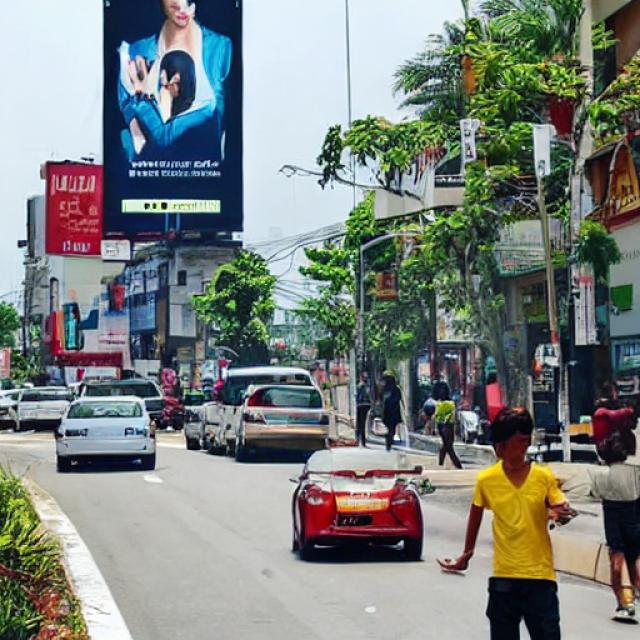Billboard: (100, 0, 247, 238)
